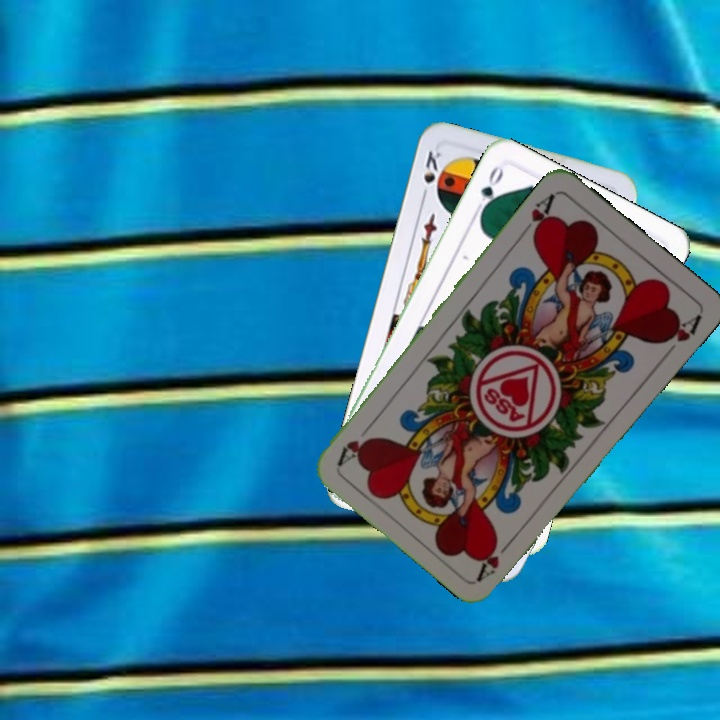GO: (471, 162, 506, 218)
HA: (516, 189, 558, 242), (473, 533, 517, 583)
SK: (417, 145, 444, 203)
